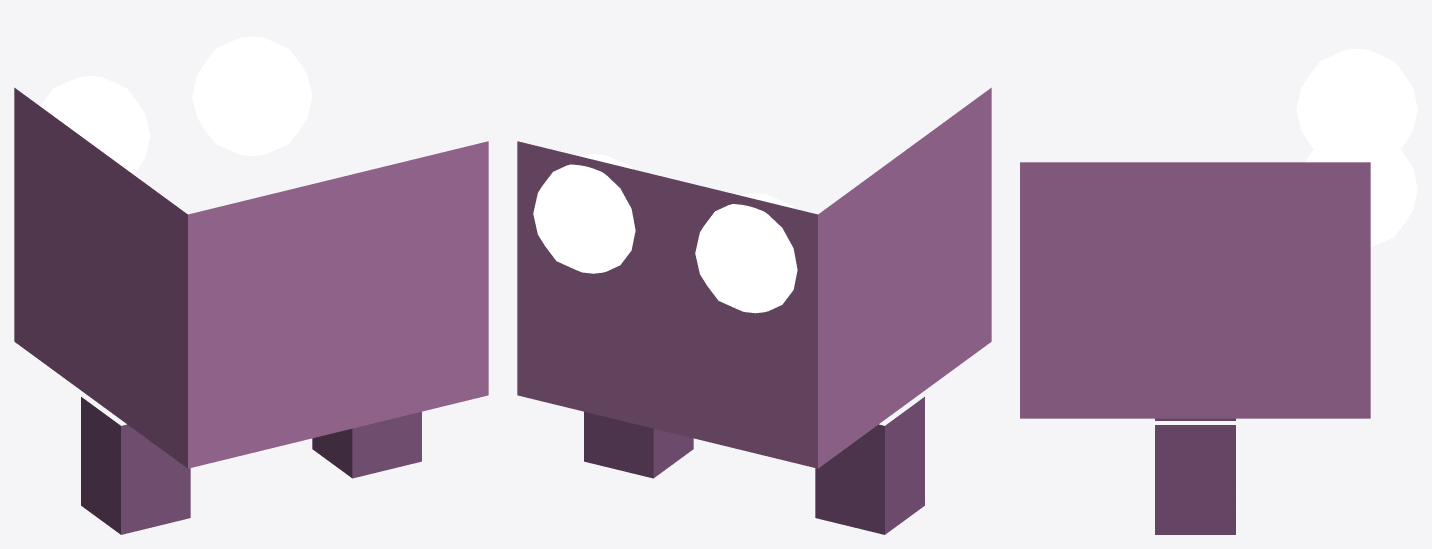
File: model.enemy.glb
3 views of the same model, side by side, from view 1: azimuth 30°, elevation 25°; view 2: azimuth 150°, elevation 25°; view 3: azimuth 270°, elevation 25° (orthographic).
Parts seen in each view (by area): view 1: enemy; view 2: enemy; view 3: enemy.
Boxes of the visible parts, left/top/right/bottom form: enemy: left=14, top=36, right=488, bottom=534; enemy: left=517, top=87, right=991, bottom=534; enemy: left=1020, top=48, right=1417, bottom=534.
Bounding box in the file's own units: 0.52 × 0.6101 × 0.5901.
